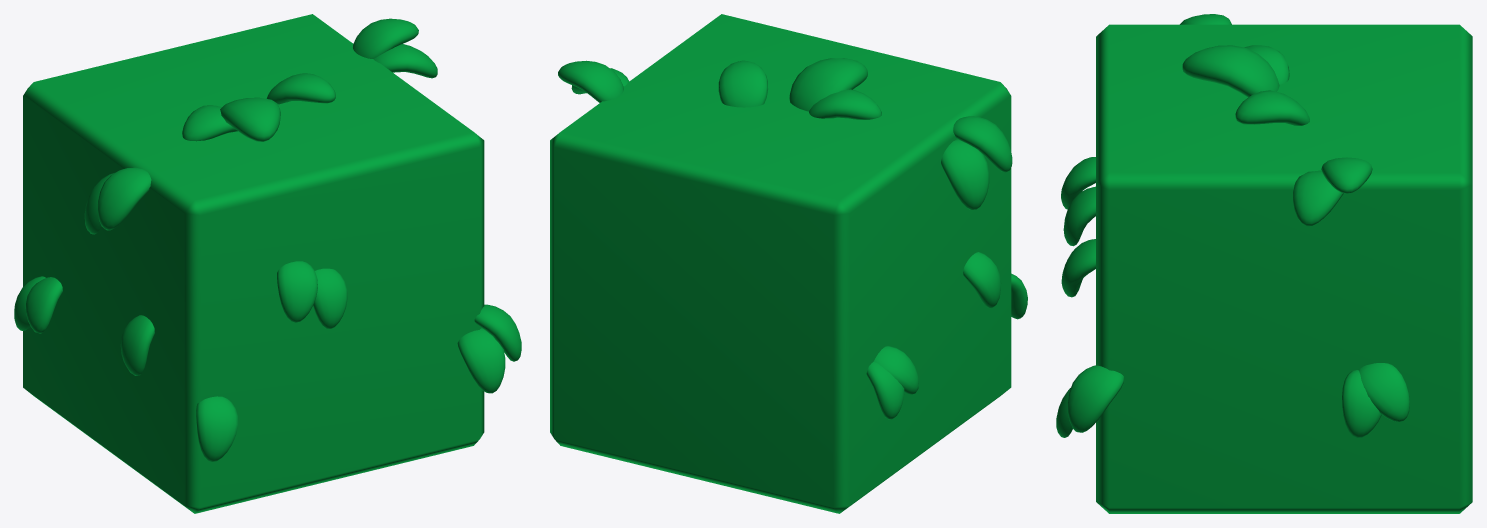
The model's file is Town_11_Hedge_1.glb.
3 views of the same model, side by side, from view 1: azimuth 30°, elevation 25°; view 2: azimuth 150°, elevation 25°; view 3: azimuth 270°, elevation 25° (orthographic). The views are drawn at different scales.
Parts seen in each view (by area): view 1: Town_11_Hedge_1; view 2: Town_11_Hedge_1; view 3: Town_11_Hedge_1.
Part boxes in pixels (box(x1,y1,x2,y2)): Town_11_Hedge_1: box(14, 14, 521, 513); Town_11_Hedge_1: box(550, 14, 1027, 513); Town_11_Hedge_1: box(1056, 14, 1472, 513).
Size of the model in its own units: 1.84 by 1.57 by 1.59.
Materials: 1 (1 with a texture image).
